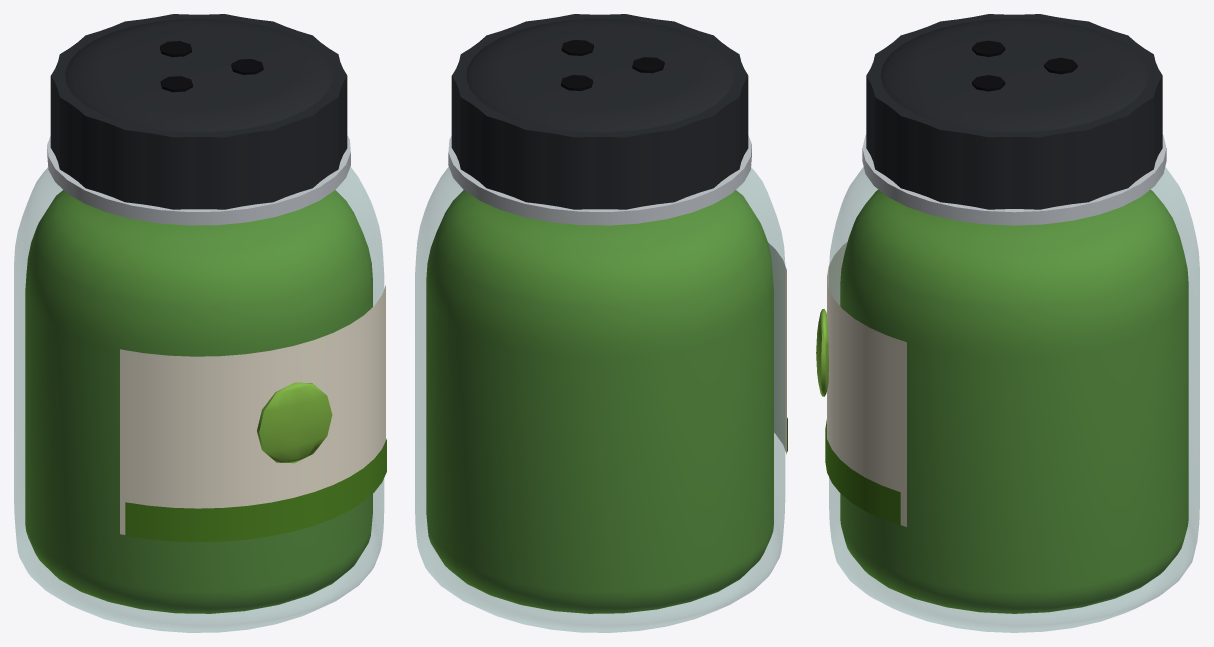
Rendered from spice_jar_c.glb.
3 views of the same model, side by side, from view 1: azimuth 30°, elevation 25°; view 2: azimuth 150°, elevation 25°; view 3: azimuth 270°, elevation 25° (orthographic).
Visible parts, largest first — view 1: SpiceJarC; view 2: SpiceJarC; view 3: SpiceJarC.
Boxes of the visible parts, <box> form: SpiceJarC: <box>14,14,386,632</box>; SpiceJarC: <box>415,14,787,632</box>; SpiceJarC: <box>816,14,1199,632</box>.
Bounding box in the file's own units: 2 × 3.02 × 2.07.
